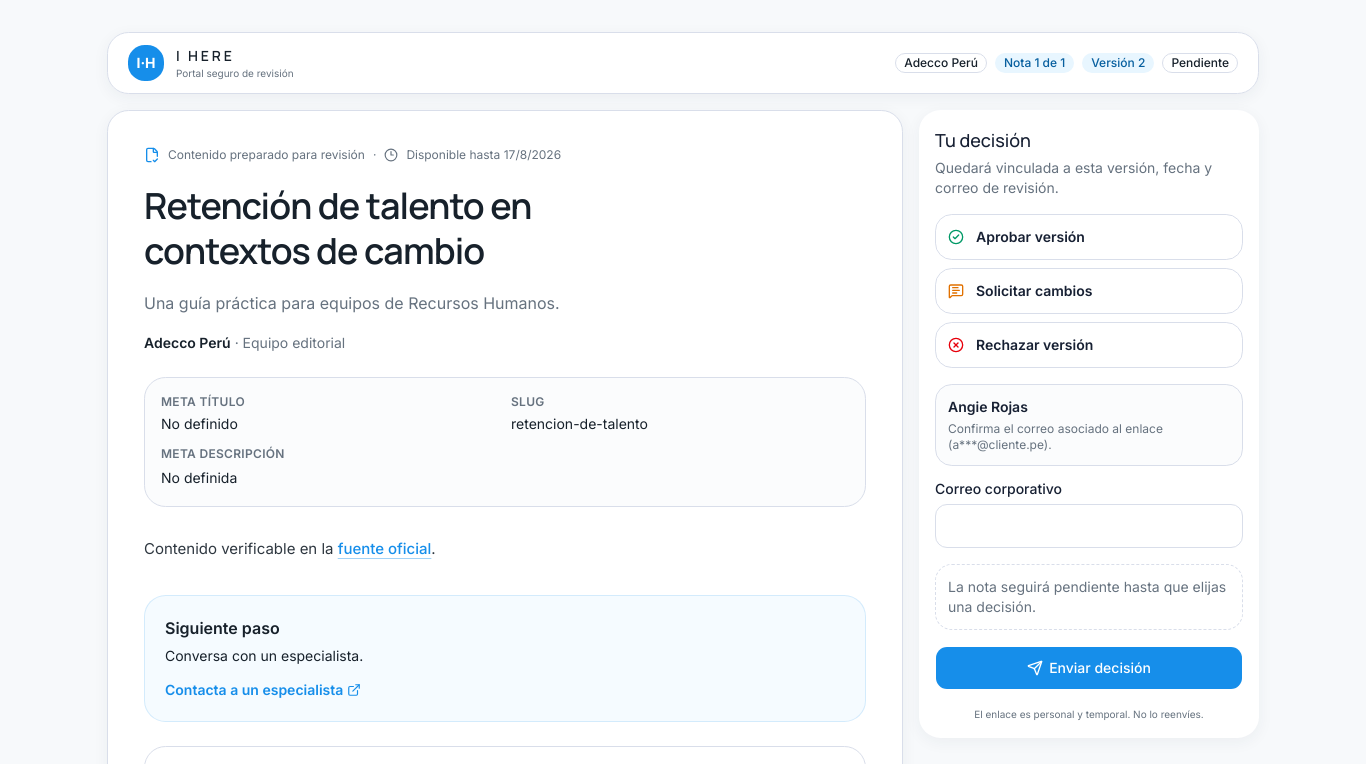
Test: ReviewPortal › muestra el campo de observación solo cuando corresponde
Check: the text "Nota 1 de 1" is shown, box 995,53 -> 1074,73
Click the button "Solicitar cambios" at (1089,291), box 935,268 -> 1243,314
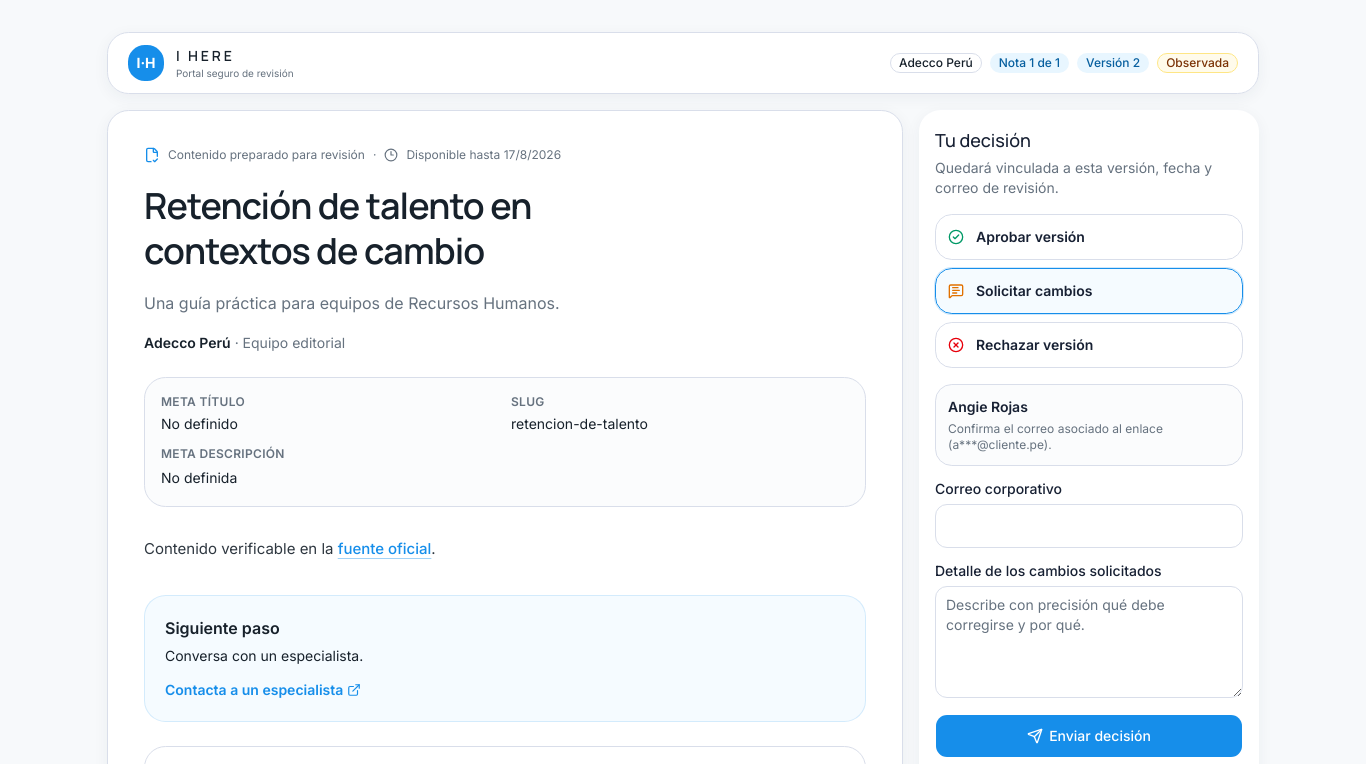
Check: the text box named "Observación de la nota" is shown, box 935,586 -> 1243,698
